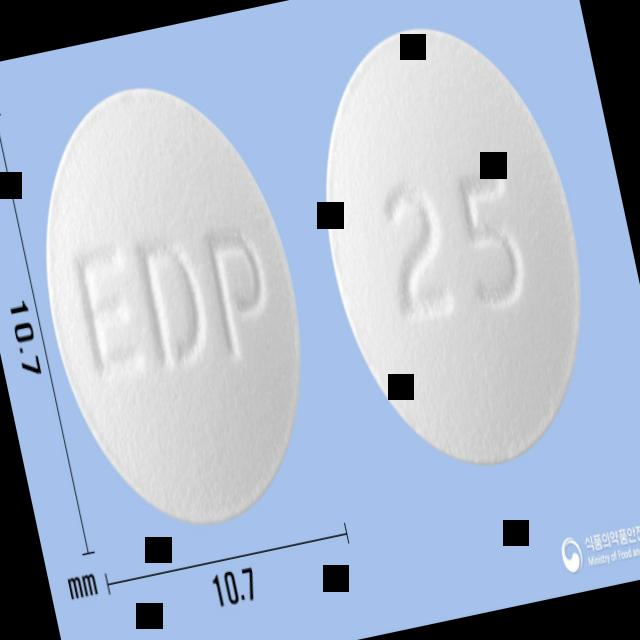Augmentin: (286, 2, 618, 492), (10, 63, 339, 549)
